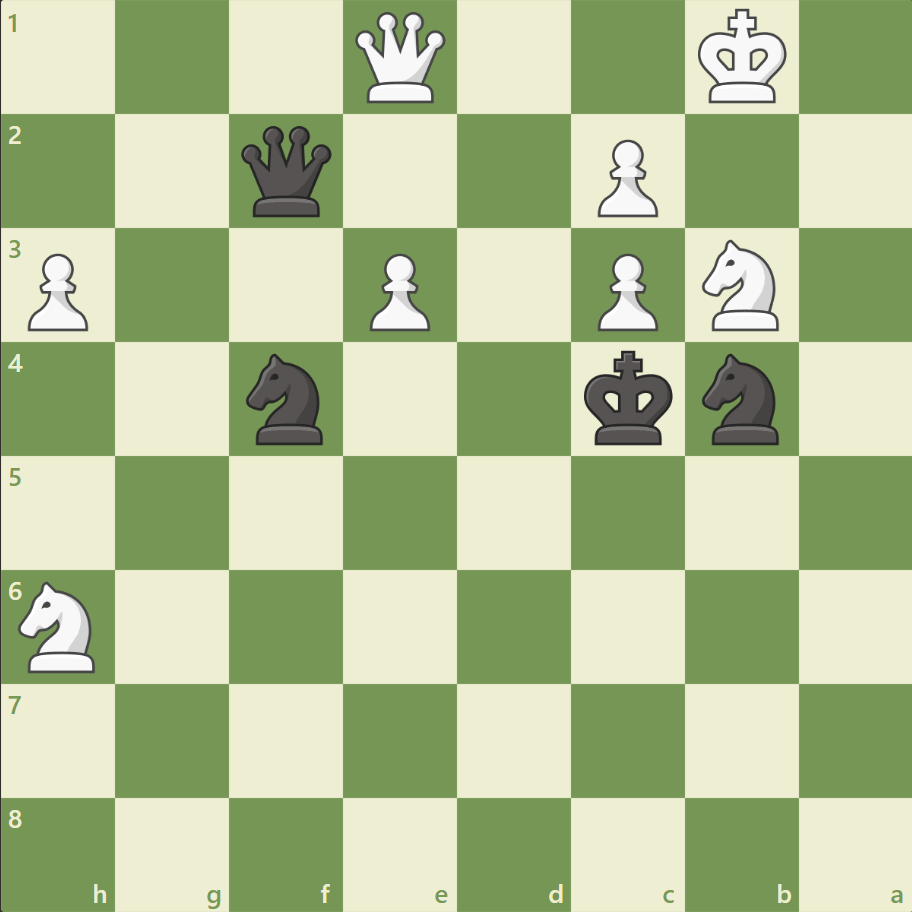K: (692, 4, 792, 112)
N: (692, 234, 789, 337), (11, 575, 108, 677)
P: (20, 246, 95, 337), (588, 246, 662, 337), (361, 246, 435, 337), (588, 132, 662, 223)
Q: (351, 9, 450, 108)
k: (579, 344, 679, 452)
n: (692, 348, 789, 450), (238, 348, 335, 450)
q: (237, 122, 336, 222)
